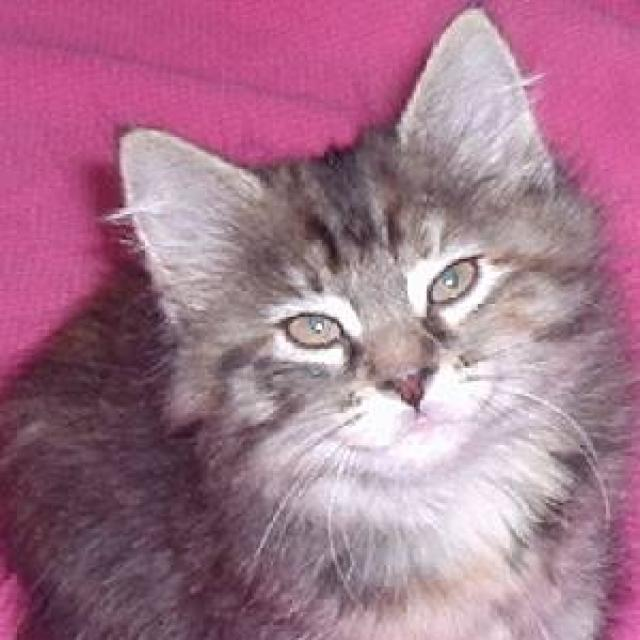cat: (0, 4, 636, 638)
